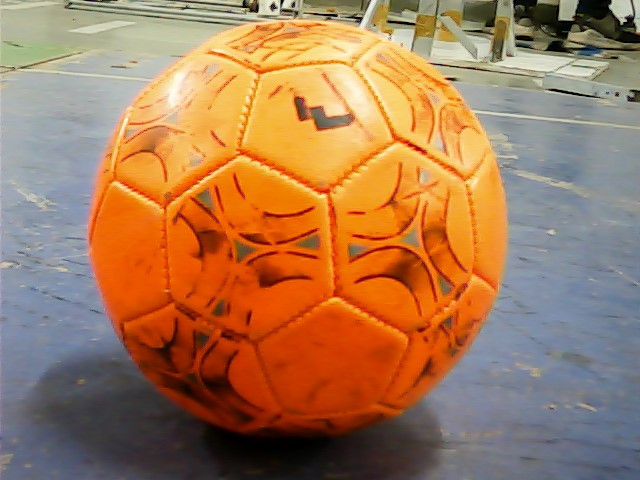Orange_ball: (79, 16, 521, 432)
